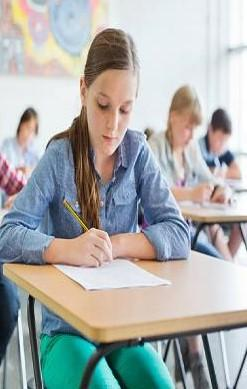good: (0, 24, 210, 297)
